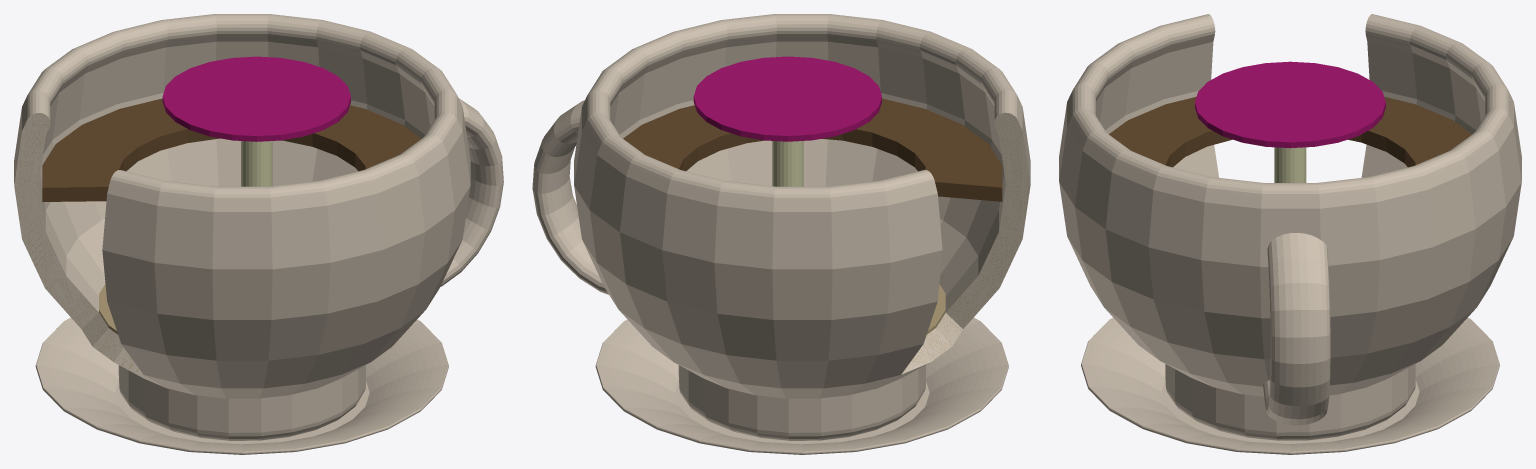
The picture shows the model from 3 angles, left to right: view 1: azimuth 30°, elevation 25°; view 2: azimuth 150°, elevation 25°; view 3: azimuth 270°, elevation 25°; orthographic projection.
Visible parts, largest first — view 1: mesh19.001_mesh19-geometry, mesh3_mesh3-geometry, mesh1_mesh1-geometry, mesh7_mesh7-geometry, mesh16.002_mesh16-geometry, mesh13.002_mesh13-geometry, mesh10_mesh10-geometry; view 2: mesh19.001_mesh19-geometry, mesh3_mesh3-geometry, mesh1_mesh1-geometry, mesh7_mesh7-geometry, mesh16.002_mesh16-geometry, mesh13.002_mesh13-geometry, mesh10_mesh10-geometry; view 3: mesh19.001_mesh19-geometry, mesh3_mesh3-geometry, mesh7_mesh7-geometry, mesh13.002_mesh13-geometry, mesh16.002_mesh16-geometry, mesh1_mesh1-geometry, mesh10_mesh10-geometry.
Part boxes in pixels (<box>): mesh19.001_mesh19-geometry: <box>14,14,470,398</box>; mesh3_mesh3-geometry: <box>35,317,448,454</box>; mesh1_mesh1-geometry: <box>42,98,421,201</box>; mesh7_mesh7-geometry: <box>162,56,350,141</box>; mesh16.002_mesh16-geometry: <box>118,365,365,440</box>; mesh13.002_mesh13-geometry: <box>440,98,503,286</box>; mesh10_mesh10-geometry: <box>241,141,272,186</box>; mesh19.001_mesh19-geometry: <box>574,14,1030,398</box>; mesh3_mesh3-geometry: <box>595,317,1008,454</box>; mesh1_mesh1-geometry: <box>623,98,1002,201</box>; mesh7_mesh7-geometry: <box>693,56,881,141</box>; mesh16.002_mesh16-geometry: <box>678,365,925,440</box>; mesh13.002_mesh13-geometry: <box>532,100,608,294</box>; mesh10_mesh10-geometry: <box>772,141,803,186</box>; mesh19.001_mesh19-geometry: <box>1059,14,1521,396</box>; mesh3_mesh3-geometry: <box>1081,317,1499,454</box>; mesh7_mesh7-geometry: <box>1195,61,1385,148</box>; mesh13.002_mesh13-geometry: <box>1263,233,1330,425</box>; mesh16.002_mesh16-geometry: <box>1165,364,1415,440</box>; mesh1_mesh1-geometry: <box>1109,96,1471,167</box>; mesh10_mesh10-geometry: <box>1274,147,1306,182</box>.
Bounding box in the file's own units: 0.6737 × 0.4299 × 0.6011.
